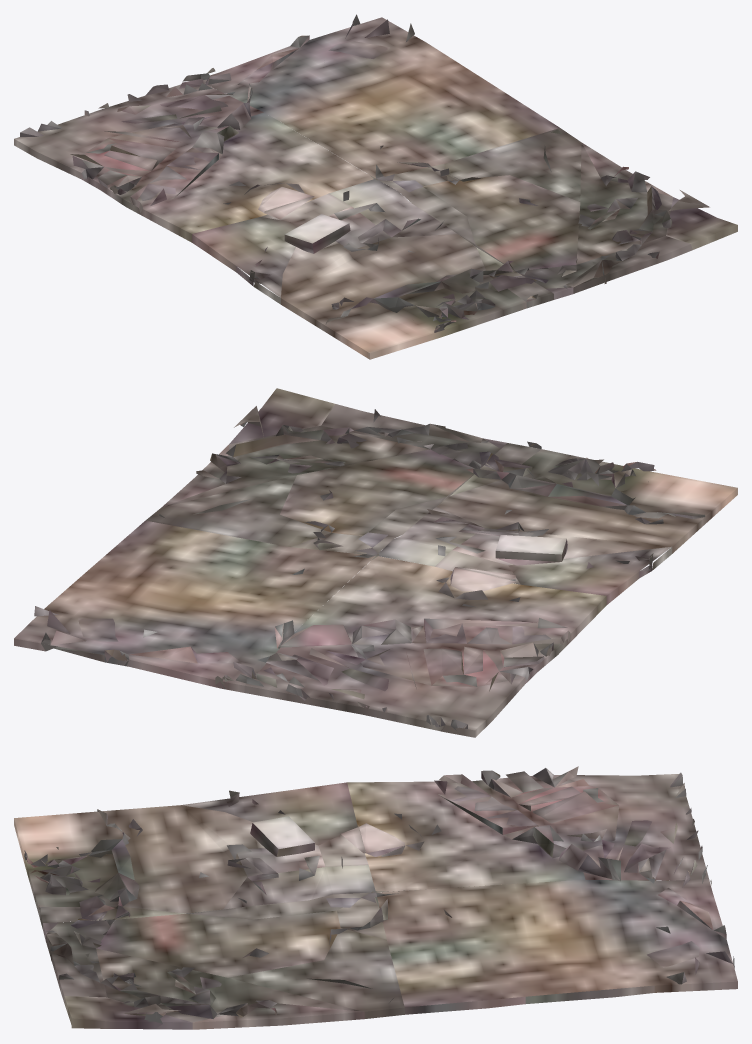
The picture shows the model from 3 angles, top to bottom: view 1: azimuth 30°, elevation 25°; view 2: azimuth 150°, elevation 25°; view 3: azimuth 270°, elevation 25°; orthographic projection. The views are drawn at different scales.
Visible parts, largest first — view 1: Mesh_0; view 2: Mesh_0; view 3: Mesh_0.
Boxes of the visible parts, left/top/right/bottom form: Mesh_0: left=14, top=14, right=737, bottom=359; Mesh_0: left=14, top=388, right=737, bottom=737; Mesh_0: left=14, top=766, right=737, bottom=1029.
Bounding box in the file's own units: 1064 × 94.1 × 1318.
Materials: 1 (1 with a texture image).
